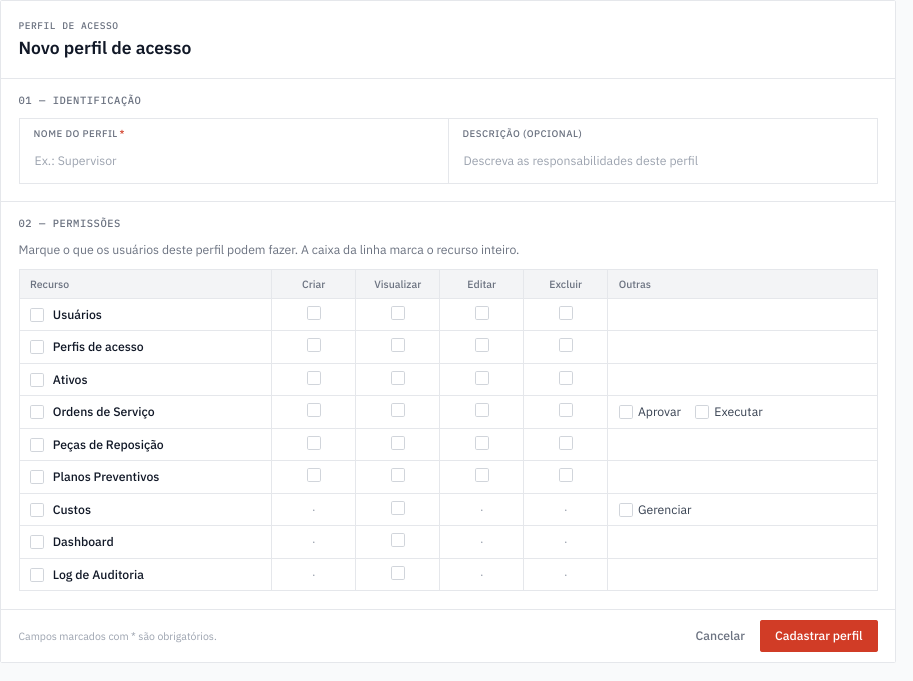
RoleEditPage — modo criação › deve oferecer as permissões de custo
Click the checkbox named "Custos" next to "Custos".
click(37, 510)  # box left=30, top=503, right=44, bottom=517
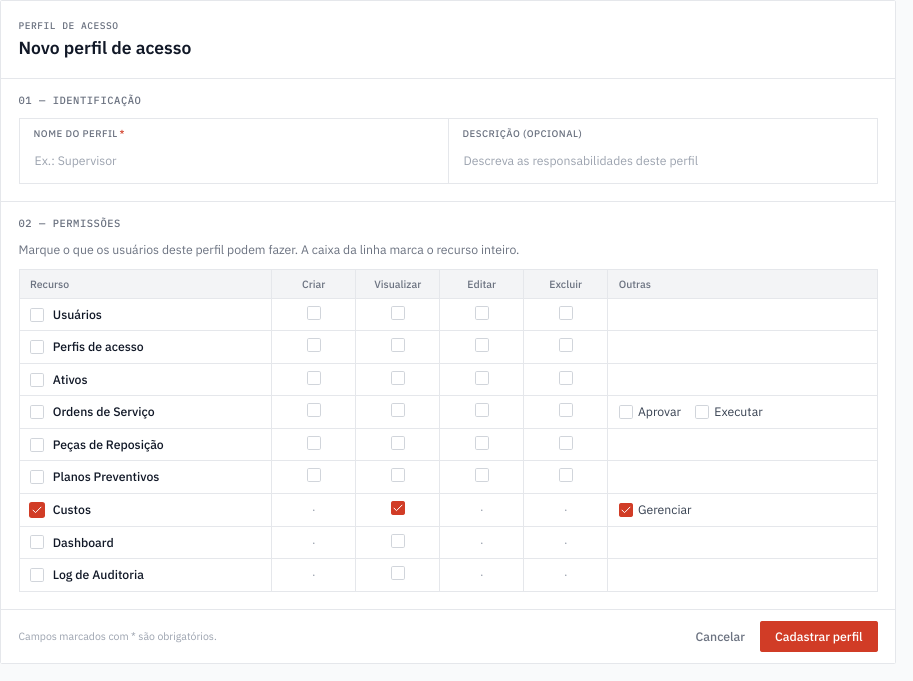
Check: the checkbox named "Visualizar — Custos" is checked, box left=391, top=501, right=405, bottom=515
Check: the checkbox named "Gerenciar — Custos" is checked, box left=619, top=503, right=633, bottom=517
